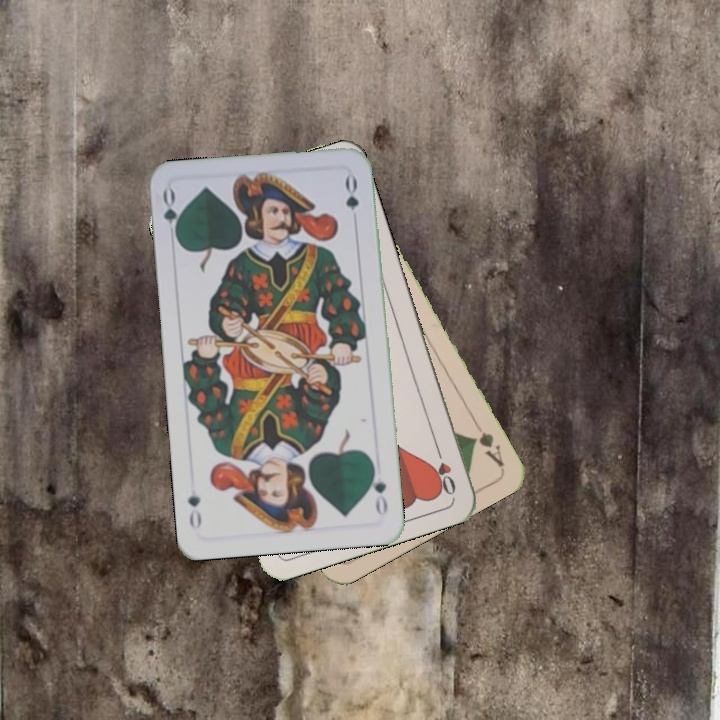GA: (468, 416, 507, 470)
GO: (158, 185, 184, 245), (366, 460, 390, 519)
HO: (431, 441, 459, 499)
